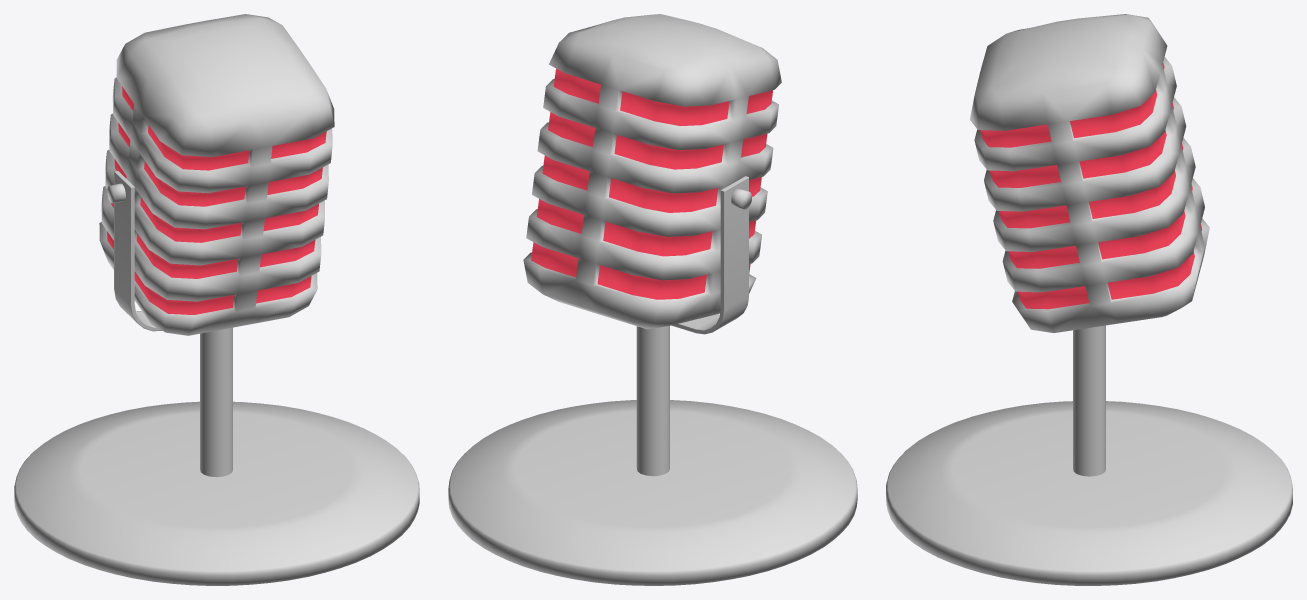
File: mic_off.gltf
The picture shows the model from 3 angles, left to right: view 1: azimuth 30°, elevation 25°; view 2: azimuth 150°, elevation 25°; view 3: azimuth 270°, elevation 25°; orthographic projection.
Parts seen in each view (by area): view 1: Microphone, Base, Stand 2, Stand; view 2: Microphone, Base, Stand 2, Stand; view 3: Microphone, Base, Stand 2.
Boxes of the visible parts, box(x1,y1,x2,y2) form: Microphone: box(99, 14, 334, 335); Base: box(14, 401, 419, 585); Stand 2: box(200, 327, 232, 477); Stand: box(114, 171, 161, 331); Microphone: box(523, 14, 781, 329); Base: box(448, 400, 857, 585); Stand 2: box(636, 325, 669, 476); Stand: box(671, 176, 748, 334); Microphone: box(969, 14, 1209, 332); Base: box(886, 401, 1292, 585); Stand 2: box(1073, 325, 1105, 476).
Size of the model in its own units: 1.13 by 1.43 by 1.13.
